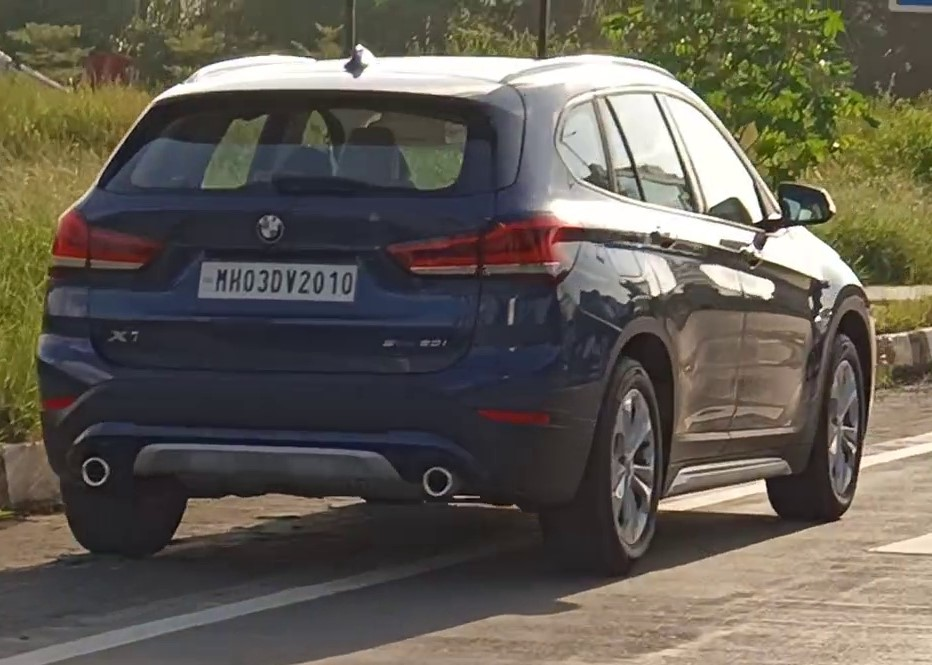MH03DV2010: (197, 262, 357, 301)
